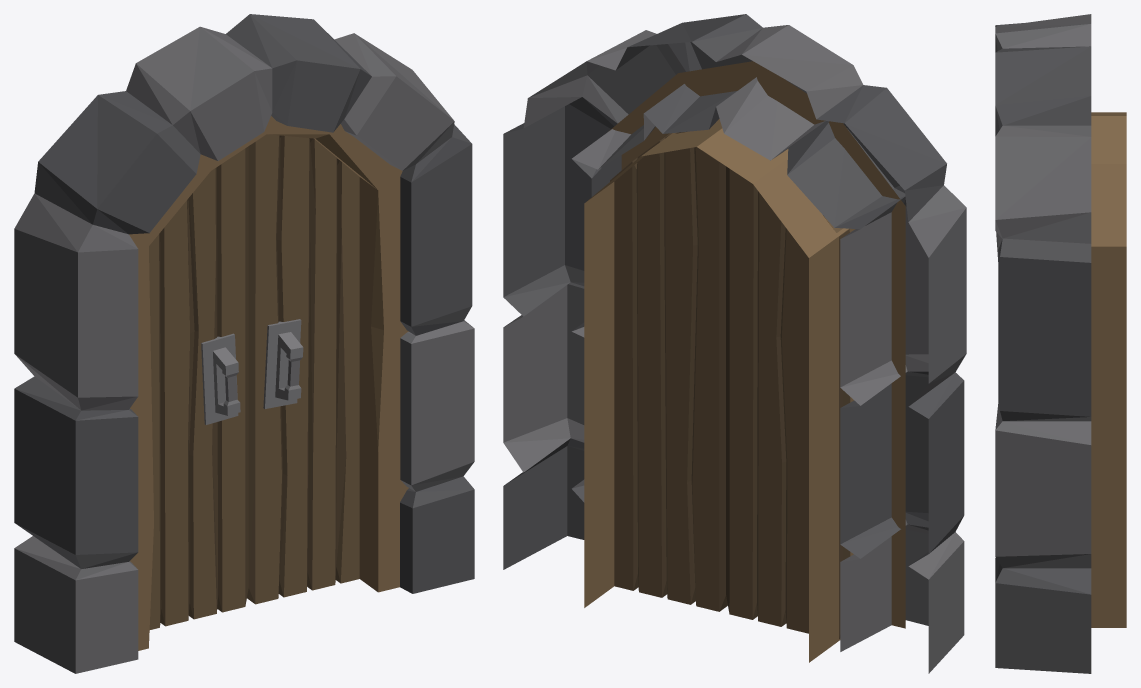
The model's file is SM_Bld_Church_Door_01.gltf.
3 views of the same model, side by side, from view 1: azimuth 30°, elevation 25°; view 2: azimuth 150°, elevation 25°; view 3: azimuth 270°, elevation 25° (orthographic). The views are drawn at different scales.
Visible parts, largest first — view 1: SM_Bld_Church_Door_01; view 2: SM_Bld_Church_Door_01; view 3: SM_Bld_Church_Door_01.
Boxes of the visible parts, x1,y1,x2,y2 form: SM_Bld_Church_Door_01: [14, 14, 474, 673]; SM_Bld_Church_Door_01: [503, 14, 966, 673]; SM_Bld_Church_Door_01: [995, 14, 1126, 673].
Bounding box in the file's own units: 2.11 × 2.72 × 0.5972.
Materials: 1 (1 with a texture image).
